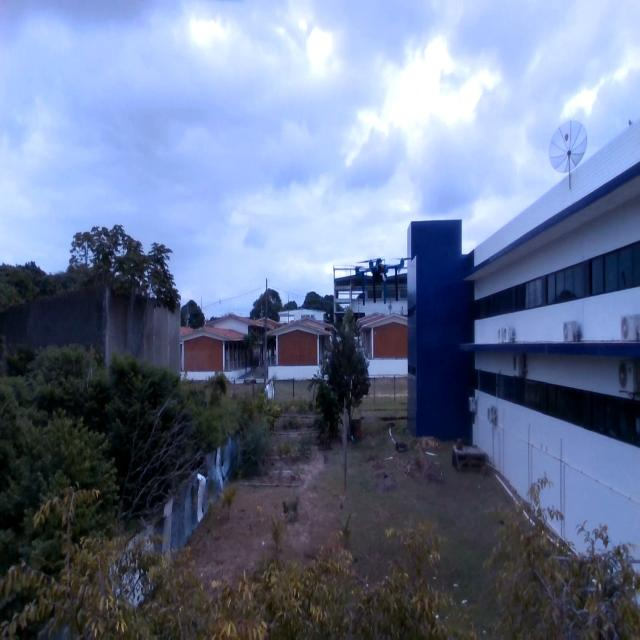-uav-: (342, 235, 412, 312)
